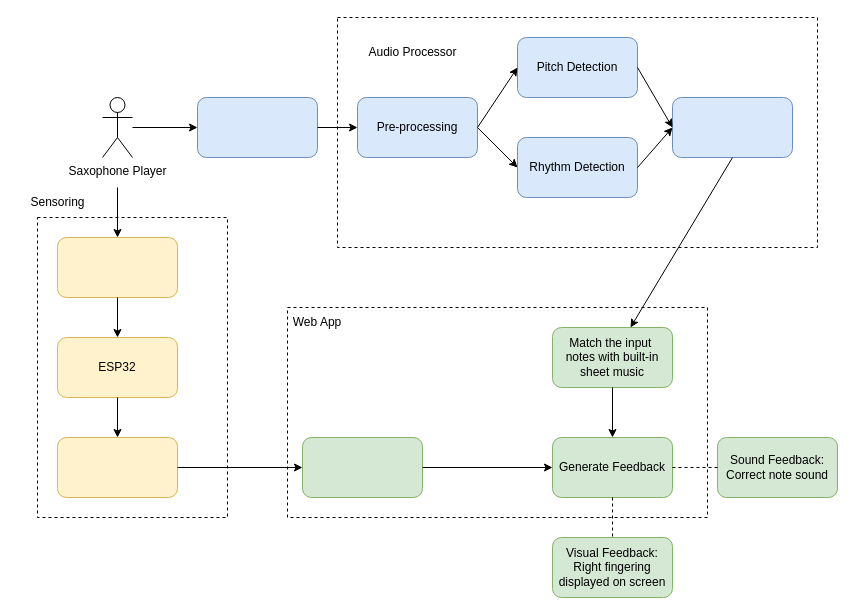
This 855x615 diagram has some shape labels left out. The shapes that lost their labels are listed below. From the top down, each one's box as (x1, y1, x2, y2) in pixels, then its label:
(196, 96, 318, 158): Original Audio
(672, 96, 792, 158): Notes
(56, 236, 178, 298): Pressure Sensor
(56, 436, 178, 498): MIDI notes
(302, 436, 422, 498): Match the fingering with built-in sheet music
